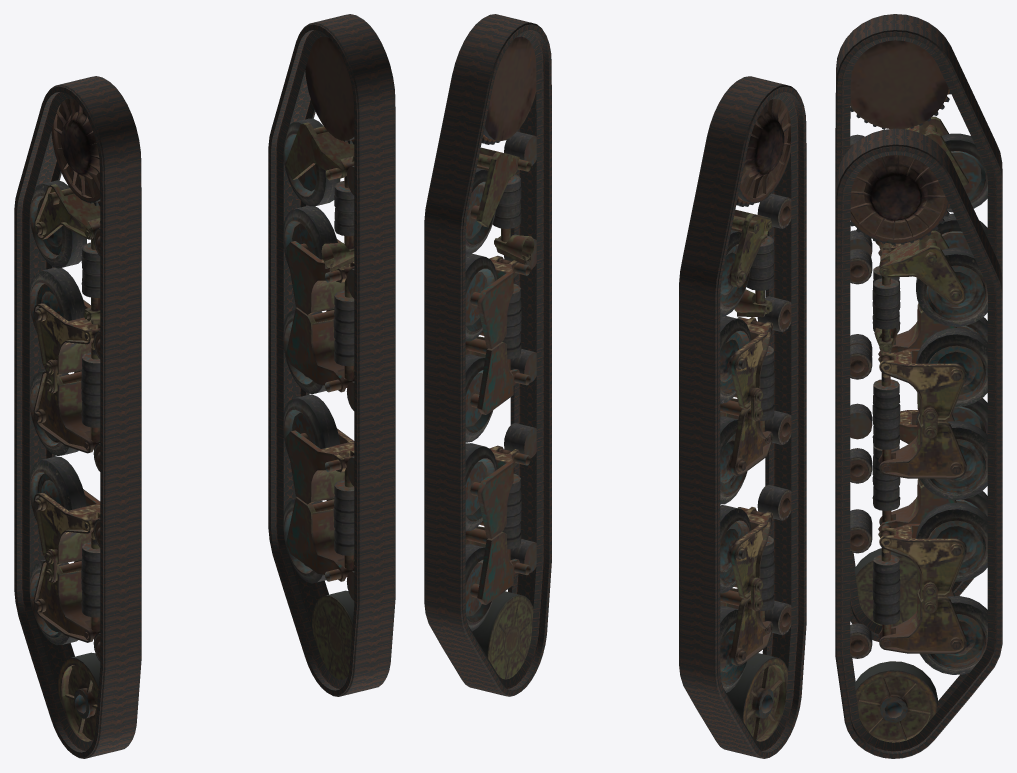
The model's file is Chassis_01.glb.
3 renders of one model, left to right at view 1: azimuth 30°, elevation 25°; view 2: azimuth 150°, elevation 25°; view 3: azimuth 270°, elevation 25°, orthographic. The views are drawn at different scales.
Parts seen in each view (by area): view 1: set_0_group_0, set_1_group_0, set_3_group_0, set_2_group_0; view 2: set_0_group_0, set_1_group_0, set_3_group_0, set_2_group_0; view 3: set_3_group_0, set_1_group_0, set_2_group_0, set_0_group_0.
Part boxes in pixels (x1,y1,x2,y2): set_0_group_0: (14, 76, 141, 758); set_1_group_0: (268, 14, 395, 696); set_3_group_0: (283, 36, 354, 679); set_2_group_0: (29, 98, 100, 741); set_0_group_0: (679, 76, 806, 758); set_1_group_0: (424, 14, 551, 696); set_3_group_0: (465, 36, 536, 679); set_2_group_0: (720, 99, 791, 741); set_3_group_0: (850, 155, 987, 742); set_1_group_0: (835, 128, 1002, 758); set_2_group_0: (850, 40, 987, 626); set_0_group_0: (835, 14, 1002, 641).
Bounding box in the file's own units: 2.13 × 4.46 × 1.1.
4 materials, 4 textured.
